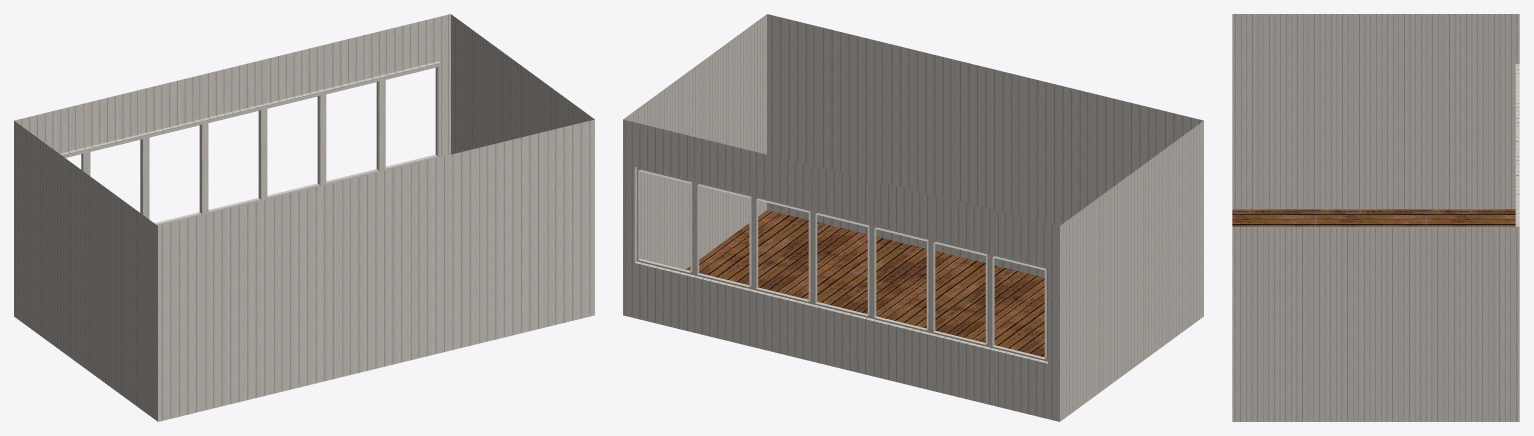
File: operator-room.glb
The picture shows the model from 3 angles, left to right: view 1: azimuth 30°, elevation 25°; view 2: azimuth 150°, elevation 25°; view 3: azimuth 270°, elevation 25°; orthographic projection.
Visible parts, largest first — view 1: Back wall.001, Right wall.001, Front wall.001, Left wall.001; view 2: Front wall.001, Back wall.001, Right wall.001, Floor.001, Left wall.001; view 3: Left wall.001, Right wall.001, Floor.001, Front wall.001.
Boxes of the visible parts, x1,y1,x2,y2 form: Back wall.001: [158, 119, 594, 421]; Right wall.001: [14, 121, 157, 421]; Front wall.001: [14, 14, 450, 225]; Left wall.001: [451, 14, 594, 154]; Front wall.001: [623, 119, 1059, 421]; Back wall.001: [767, 14, 1203, 277]; Right wall.001: [1060, 121, 1203, 421]; Floor.001: [686, 210, 1044, 357]; Left wall.001: [623, 14, 766, 269]; Left wall.001: [1232, 226, 1519, 421]; Right wall.001: [1232, 14, 1519, 209]; Floor.001: [1232, 209, 1515, 226]; Front wall.001: [1515, 64, 1519, 226].
Size of the model in its own units: 7 by 3 by 4.
2 materials, 2 textured.
